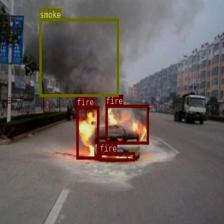fire: (105, 104, 149, 144), (76, 105, 99, 159), (99, 152, 134, 160)
smoke: (40, 18, 119, 96)
